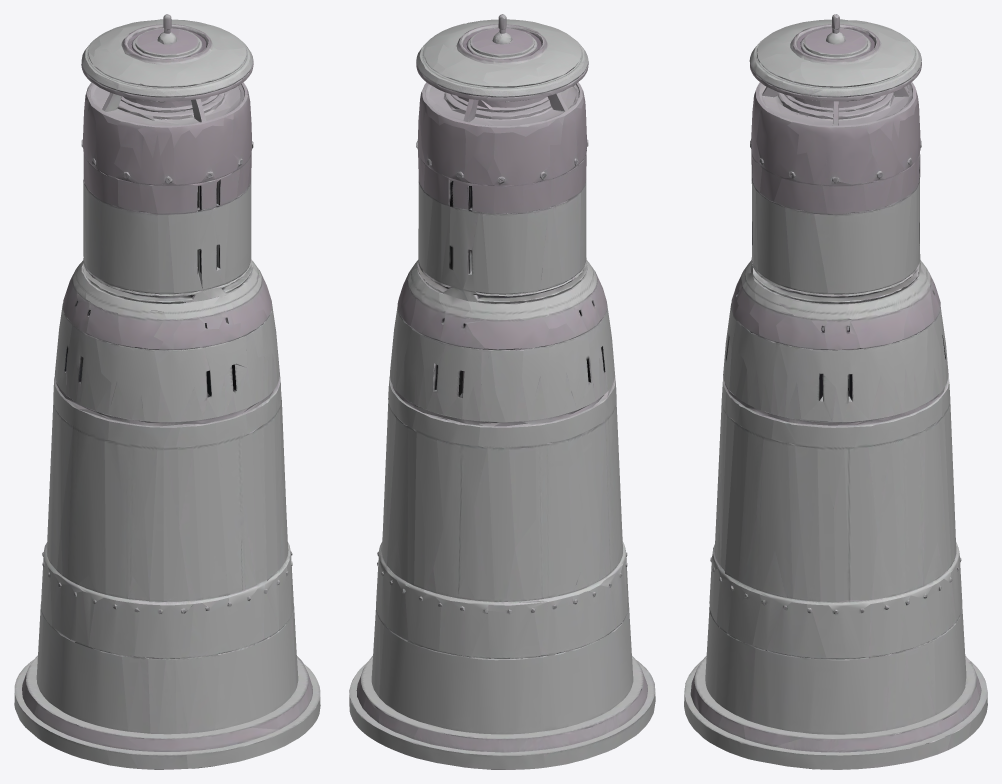
The model's file is cloudcity.glb.
The picture shows the model from 3 angles, left to right: view 1: azimuth 30°, elevation 25°; view 2: azimuth 150°, elevation 25°; view 3: azimuth 270°, elevation 25°; orthographic projection.
Parts seen in each view (by area): view 1: cloudcity-centred; view 2: cloudcity-centred; view 3: cloudcity-centred.
Boxes of the visible parts, x1,y1,x2,y2 form: cloudcity-centred: [14, 14, 320, 769]; cloudcity-centred: [349, 14, 655, 769]; cloudcity-centred: [684, 14, 987, 769].
Size of the model in its own units: 23.85 by 60 by 23.88.
1 material, 1 textured.
